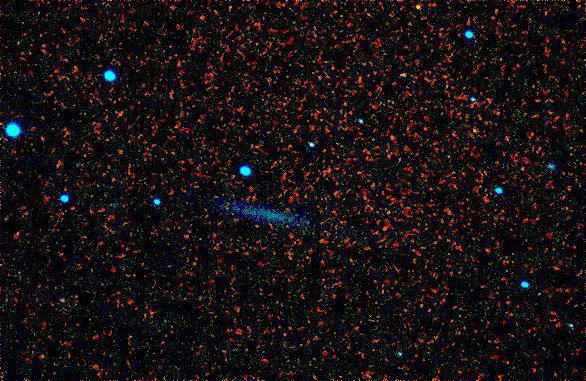star: (405, 0, 435, 23)
